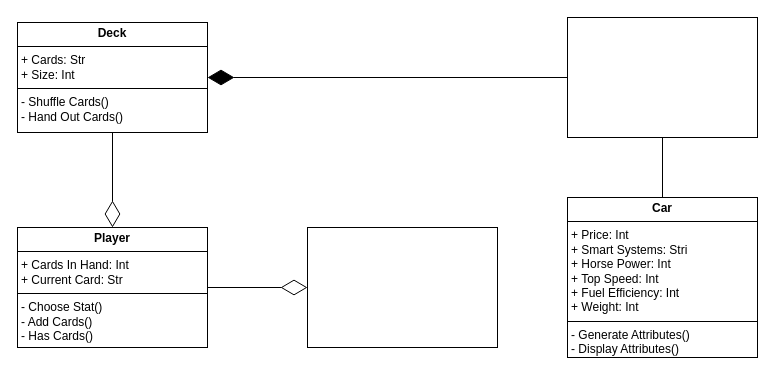
The diagram is 775 pixels wide and 375 high, and some of its shapes have lost their labels. The centre of each missing label's shape, as x and y in pixels:
Card + Car: Str + ID: Int + Image: File - Compare Stats() - List Stats(): pixel 662 77
Game + Players: Int + Deck: String - Start Game() - Win() - Lose(): pixel 402 287
